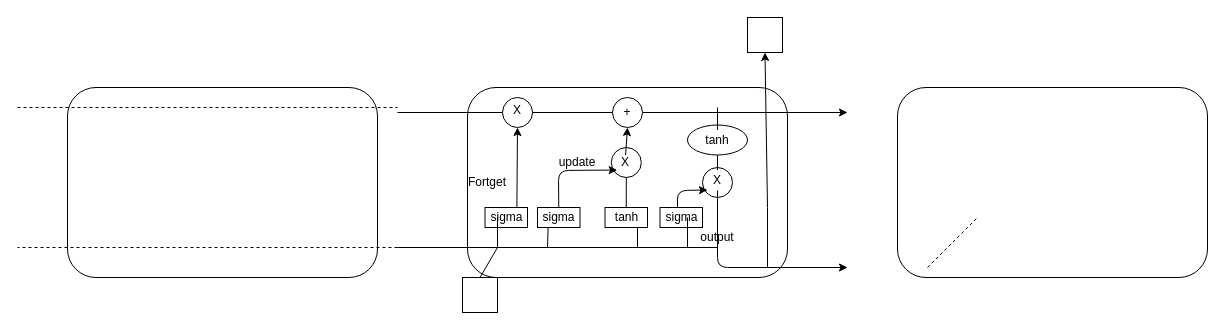
Image size: 1225x330. Some labels were removed from this diagram. Each missing label, with the centre of its shape:
x^<t>: pixel 480 294
y^<t>: pixel 764 34
